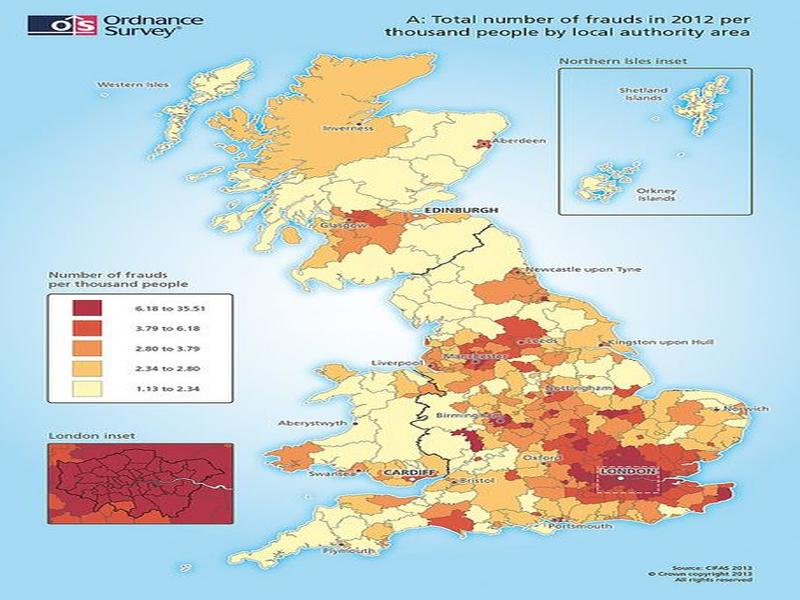legend: (46, 270, 234, 406)
